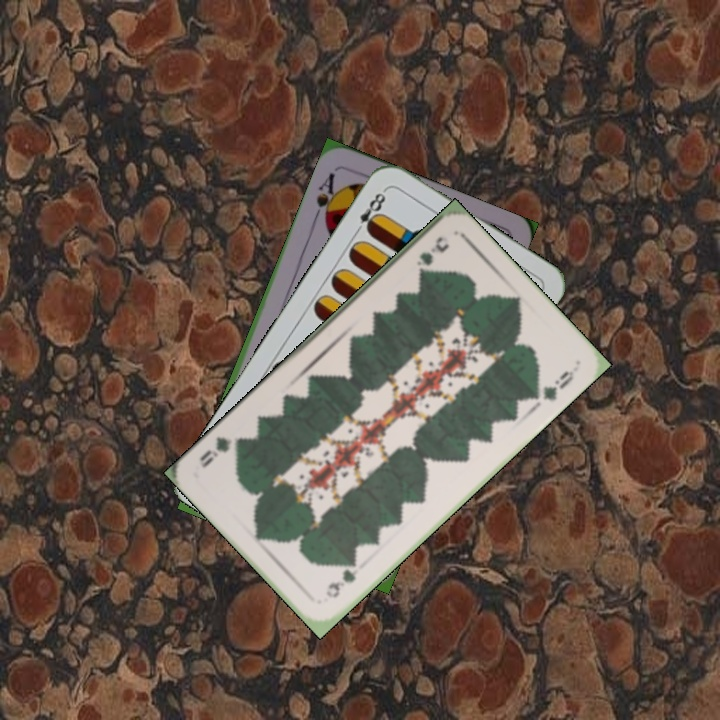E8: (350, 185, 389, 237)
G9: (321, 556, 362, 601), (412, 232, 452, 278)
SA: (309, 169, 343, 227)
